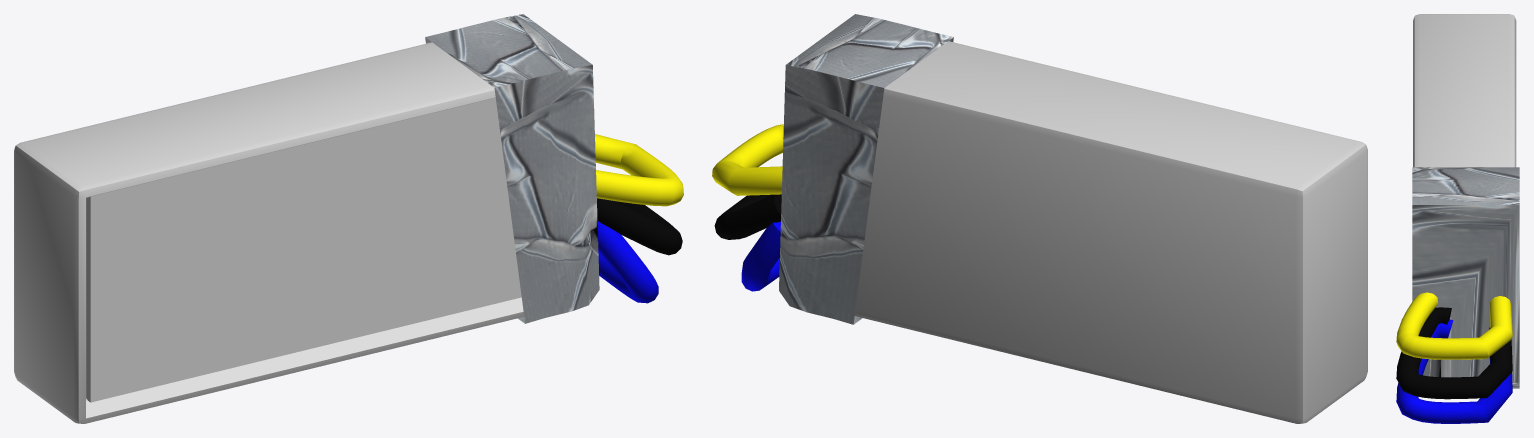
Rendered from Alarmmmmmmmmmmmmmmmmmmmmmmmmmmmmmmmmmmmmmmmm.fbx.
The picture shows the model from 3 angles, left to right: view 1: azimuth 30°, elevation 25°; view 2: azimuth 150°, elevation 25°; view 3: azimuth 270°, elevation 25°; orthographic projection. The views are drawn at different scales.
Visible parts, largest first — view 1: Screen, Box001, Tape, Line007, Line005, Line006; view 2: Box001, Tape, Line007, Line006, Line005; view 3: Tape, Box001, Line007, Line006, Line005.
Boxes of the visible parts, x1=… form: Screen: x1=86, y1=98, x2=521, y2=402; Box001: x1=14, y1=42, x2=523, y2=423; Tape: x1=425, y1=14, x2=599, y2=323; Line007: x1=595, y1=134, x2=683, y2=206; Line005: x1=597, y1=221, x2=658, y2=303; Line006: x1=597, y1=198, x2=682, y2=255; Box001: x1=854, y1=41, x2=1367, y2=423; Tape: x1=779, y1=14, x2=953, y2=324; Line007: x1=712, y1=124, x2=783, y2=195; Line006: x1=714, y1=194, x2=781, y2=239; Line005: x1=741, y1=221, x2=780, y2=291; Tape: x1=1412, y1=167, x2=1519, y2=388; Box001: x1=1413, y1=14, x2=1516, y2=167; Line007: x1=1396, y1=292, x2=1512, y2=359; Line006: x1=1396, y1=307, x2=1512, y2=399; Line005: x1=1396, y1=319, x2=1512, y2=423.
Size of the model in its own units: 303 by 122 by 68.54.
Materials: 4 (1 with a texture image).
